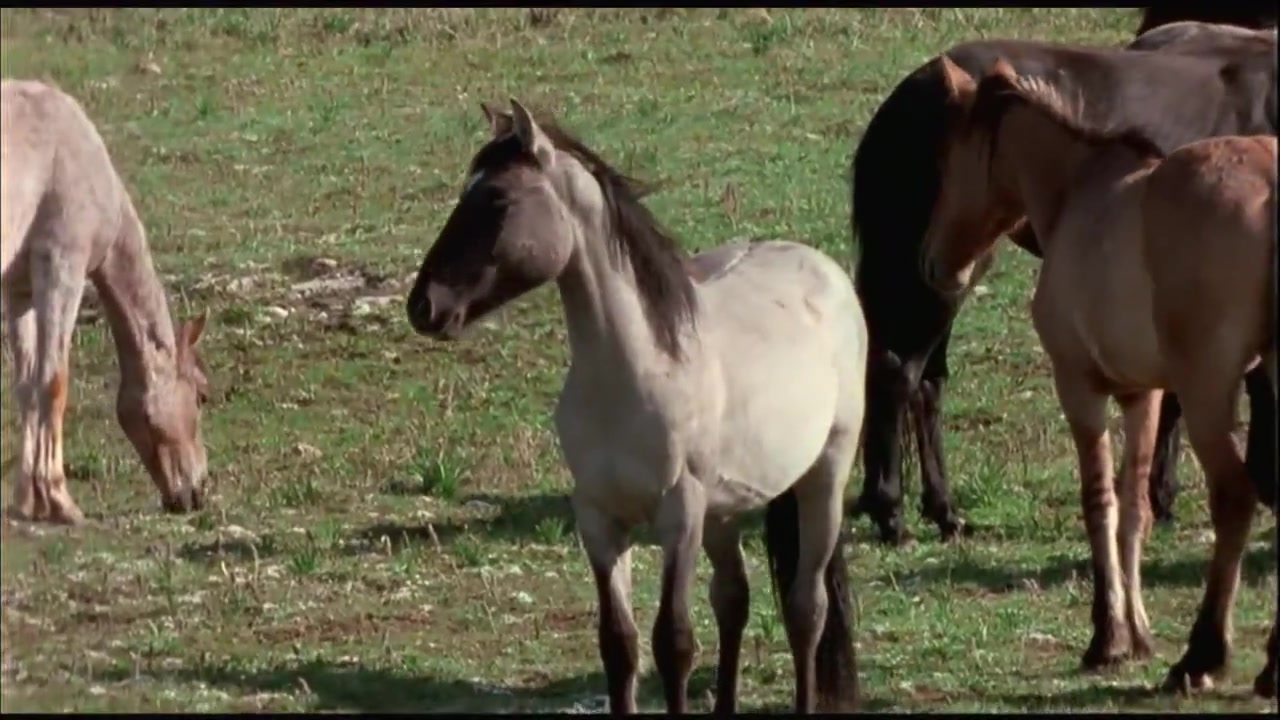horse: (406, 95, 870, 714)
